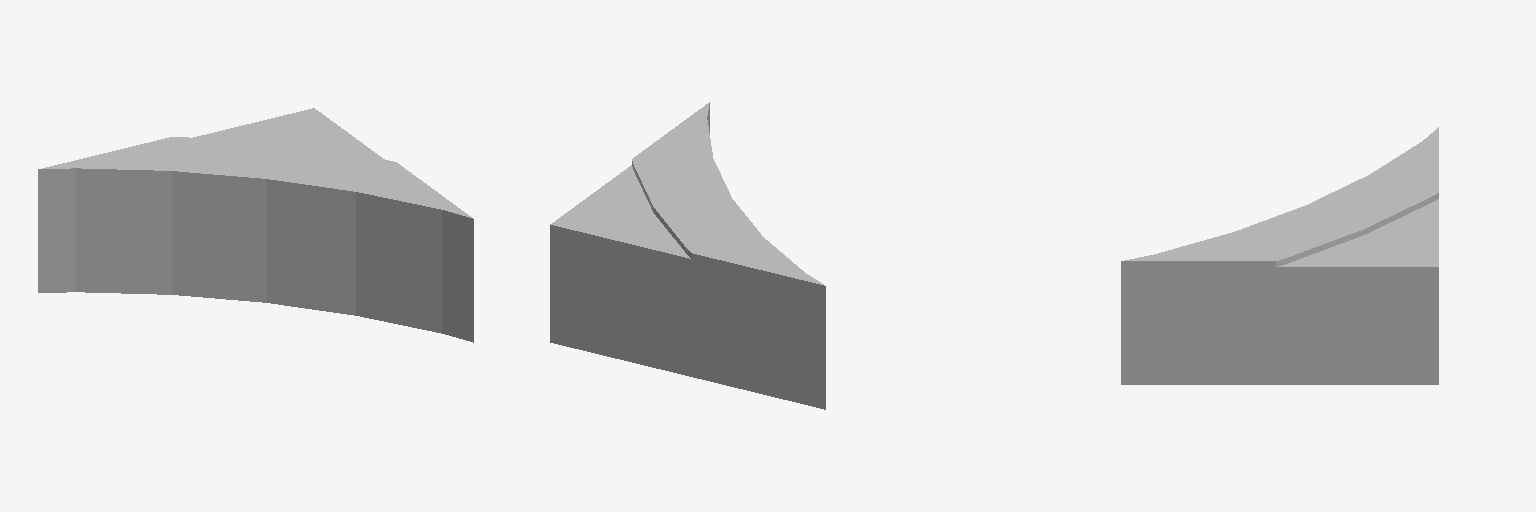
Rendered from tile216.obj.
3 views of the same model, side by side, from view 1: azimuth 30°, elevation 25°; view 2: azimuth 150°, elevation 25°; view 3: azimuth 270°, elevation 25° (orthographic).
Parts seen in each view (by area): view 1: tile216; view 2: tile216; view 3: tile216.
Boxes of the visible parts, <box> form: tile216: <box>38,108,473,342</box>; tile216: <box>550,102,825,409</box>; tile216: <box>1121,127,1438,384</box>.
Size of the model in its own units: 0.4897 by 0.21 by 0.4897.